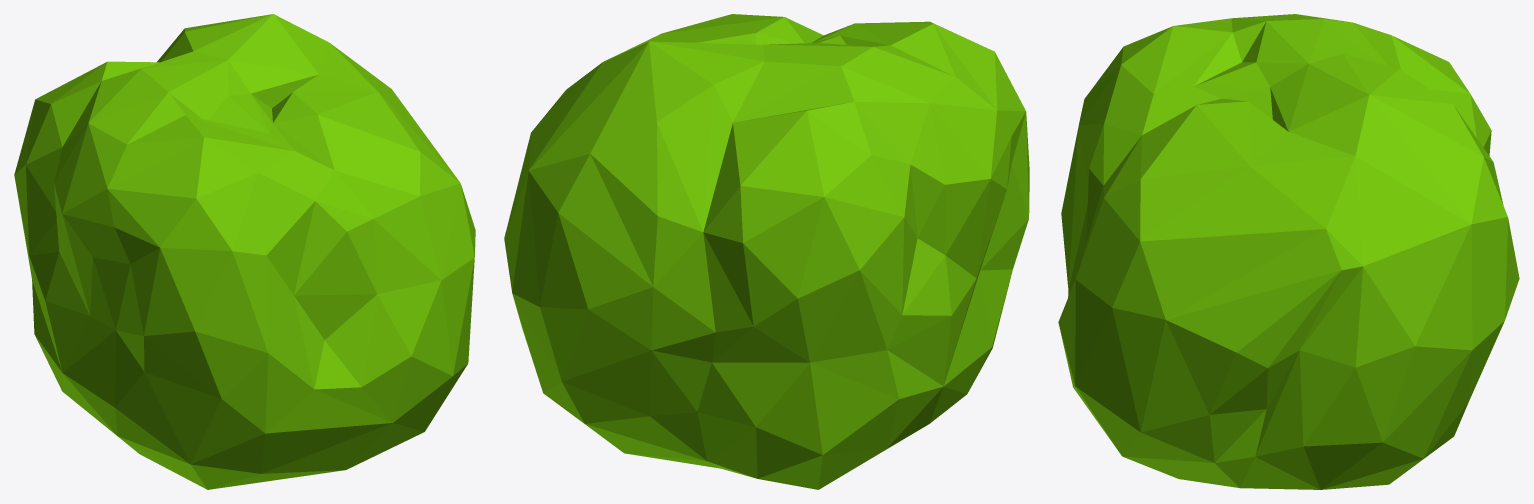
File: Bush_08.fbx
The picture shows the model from 3 angles, left to right: view 1: azimuth 30°, elevation 25°; view 2: azimuth 150°, elevation 25°; view 3: azimuth 270°, elevation 25°; orthographic projection. The views are drawn at different scales.
Parts seen in each view (by area): view 1: Bush_08; view 2: Bush_08; view 3: Bush_08.
Part boxes in pixels (x1,y1,x2,y2): Bush_08: [14, 14, 475, 489]; Bush_08: [504, 14, 1029, 489]; Bush_08: [1058, 14, 1519, 489].
Size of the model in its own units: 118 by 110 by 118.
